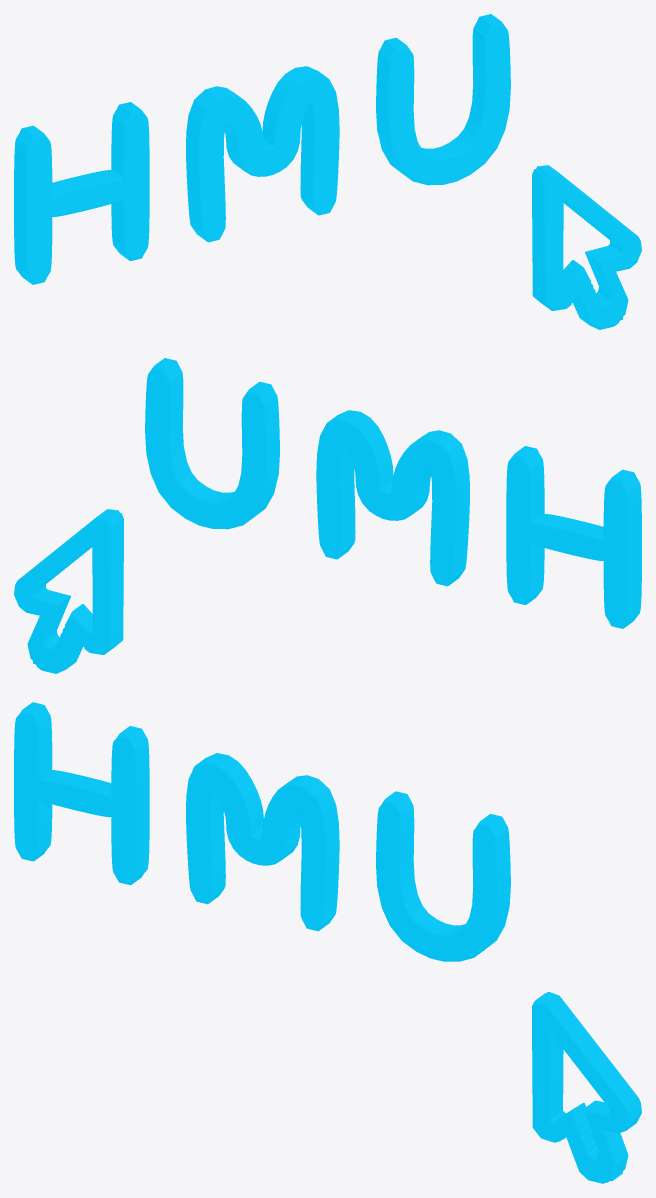
The model's file is light-sign.glb.
The picture shows the model from 3 angles, top to bottom: view 1: azimuth 30°, elevation 25°; view 2: azimuth 150°, elevation 25°; view 3: azimuth 330°, elevation 25°; orthographic projection.
Parts seen in each view (by area): view 1: M, H, U, cursor; view 2: M, H, U, cursor; view 3: M, H, U, cursor.
Boxes of the visible parts, bbox=[...] form: M: bbox=[186, 66, 339, 242]; H: bbox=[14, 102, 149, 284]; U: bbox=[376, 14, 510, 185]; cursor: bbox=[532, 165, 641, 329]; M: bbox=[316, 410, 469, 586]; H: bbox=[506, 446, 641, 628]; U: bbox=[145, 358, 279, 529]; cursor: bbox=[14, 509, 123, 673]; M: bbox=[186, 753, 339, 931]; H: bbox=[14, 702, 149, 884]; U: bbox=[376, 791, 510, 961]; cursor: bbox=[532, 992, 641, 1183].
Size of what is drawn, in the model's own units: 118 by 60.52 by 4.38.
